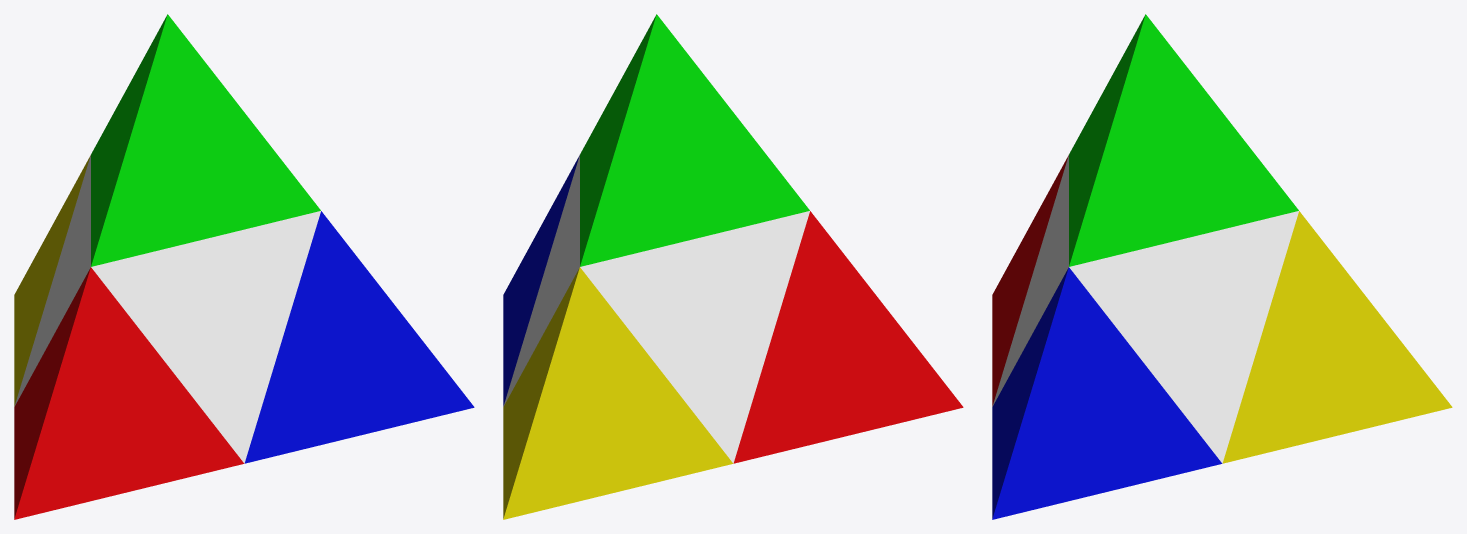
Rendered from CyberAttackerPlacement_4SidedDice_1.gltf.
3 renders of one model, left to right at view 1: azimuth 30°, elevation 25°; view 2: azimuth 150°, elevation 25°; view 3: azimuth 270°, elevation 25°, orthographic.
Parts seen in each view (by area): view 1: Cone; view 2: Cone; view 3: Cone.
Part boxes in pixels (bbox=[...]): Cone: bbox=[14, 14, 474, 519]; Cone: bbox=[503, 14, 963, 519]; Cone: bbox=[992, 14, 1452, 519].
Size of the model in its own units: 2 by 1.63 by 1.73.
